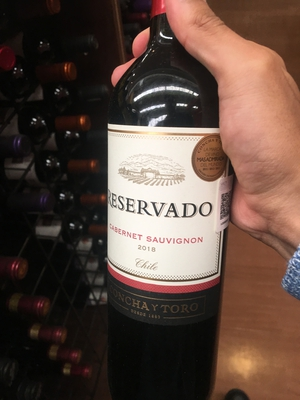reservado cabernet sauvignon: (94, 4, 235, 397)
